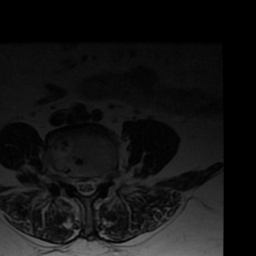CCS_normal: (82, 169, 90, 204)
LFS_normal: (98, 166, 106, 193)
LLS_normal: (90, 169, 98, 199)
RFS_normal: (65, 165, 73, 192)
RLS_normal: (73, 169, 82, 198)
